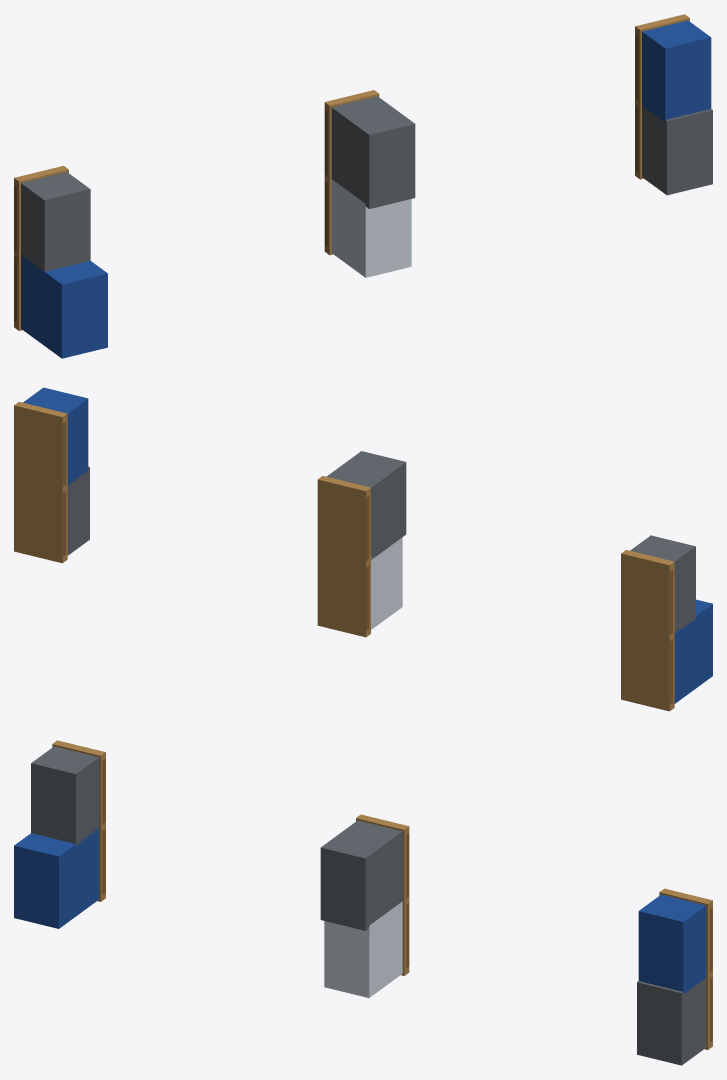
File: staging_pallets.obj
3 renders of one model, top to bottom at view 1: azimuth 30°, elevation 25°; view 2: azimuth 150°, elevation 25°; view 3: azimuth 330°, elevation 25°, orthographic. The views are drawn at different scales.
Parts seen in each view (by area): view 1: crate_grey, crate_blue, wrap, wood, wood_dark; view 2: wood, crate_grey, crate_blue, wrap, wood_dark; view 3: crate_grey, crate_blue, wrap, wood, wood_dark.
Part boxes in pixels (bbox=[...]): crate_grey: bbox=[21, 96, 712, 271]; crate_blue: bbox=[21, 20, 711, 358]; wrap: bbox=[331, 179, 411, 277]; wood: bbox=[14, 14, 689, 330]; wood_dark: bbox=[14, 33, 638, 322]; wood: bbox=[14, 401, 674, 711]; crate_grey: bbox=[67, 451, 695, 633]; crate_blue: bbox=[23, 387, 712, 703]; wrap: bbox=[371, 537, 402, 629]; wood_dark: bbox=[63, 421, 672, 704]; crate_grey: bbox=[31, 746, 705, 1065]; crate_blue: bbox=[14, 827, 705, 994]; wrap: bbox=[324, 901, 402, 997]; wood: bbox=[52, 740, 712, 1049]; wood_dark: bbox=[102, 759, 712, 1041].
Bounding box in the file's own units: 10.8 × 2.3 × 1.29.
